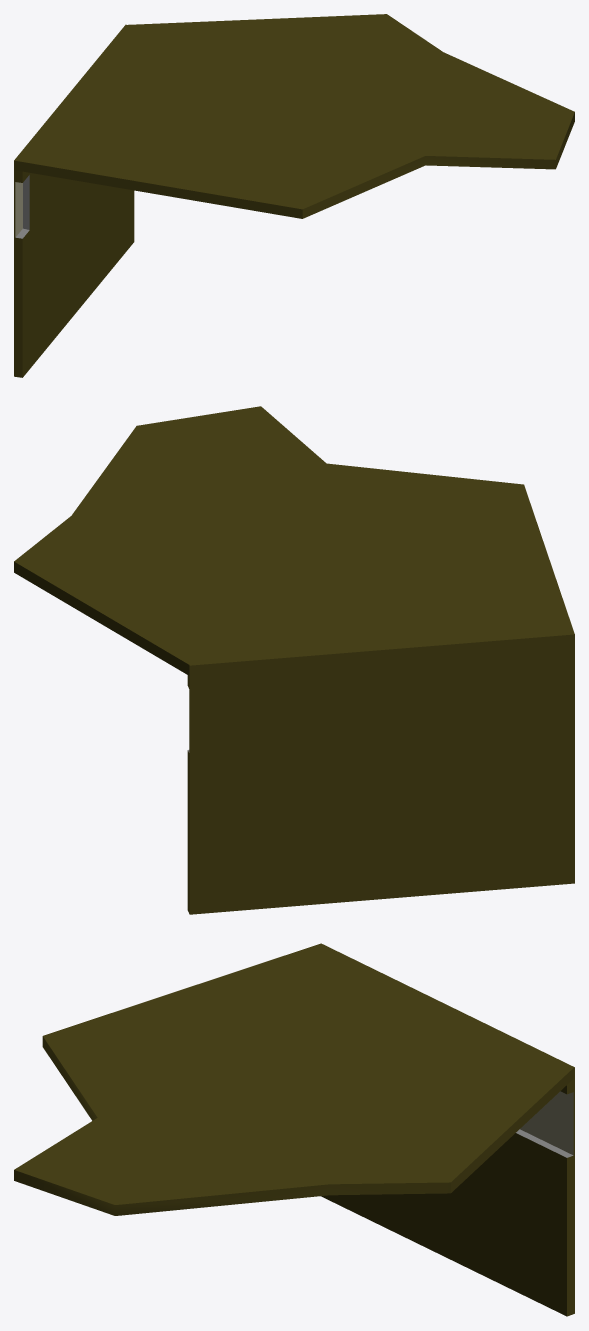
Rendered from Space Junk 1.fbx.
3 renders of one model, top to bottom at view 1: azimuth 30°, elevation 25°; view 2: azimuth 150°, elevation 25°; view 3: azimuth 270°, elevation 25°, orthographic. The views are drawn at different scales.
Parts seen in each view (by area): view 1: Space_Junk_1; view 2: Space_Junk_1; view 3: Space_Junk_1.
Part boxes in pixels (box(x1,y1,x2,y2)): Space_Junk_1: box(14, 14, 574, 377); Space_Junk_1: box(14, 406, 574, 914); Space_Junk_1: box(14, 943, 574, 1316).
Size of the model in its own units: 697 by 306 by 631.
